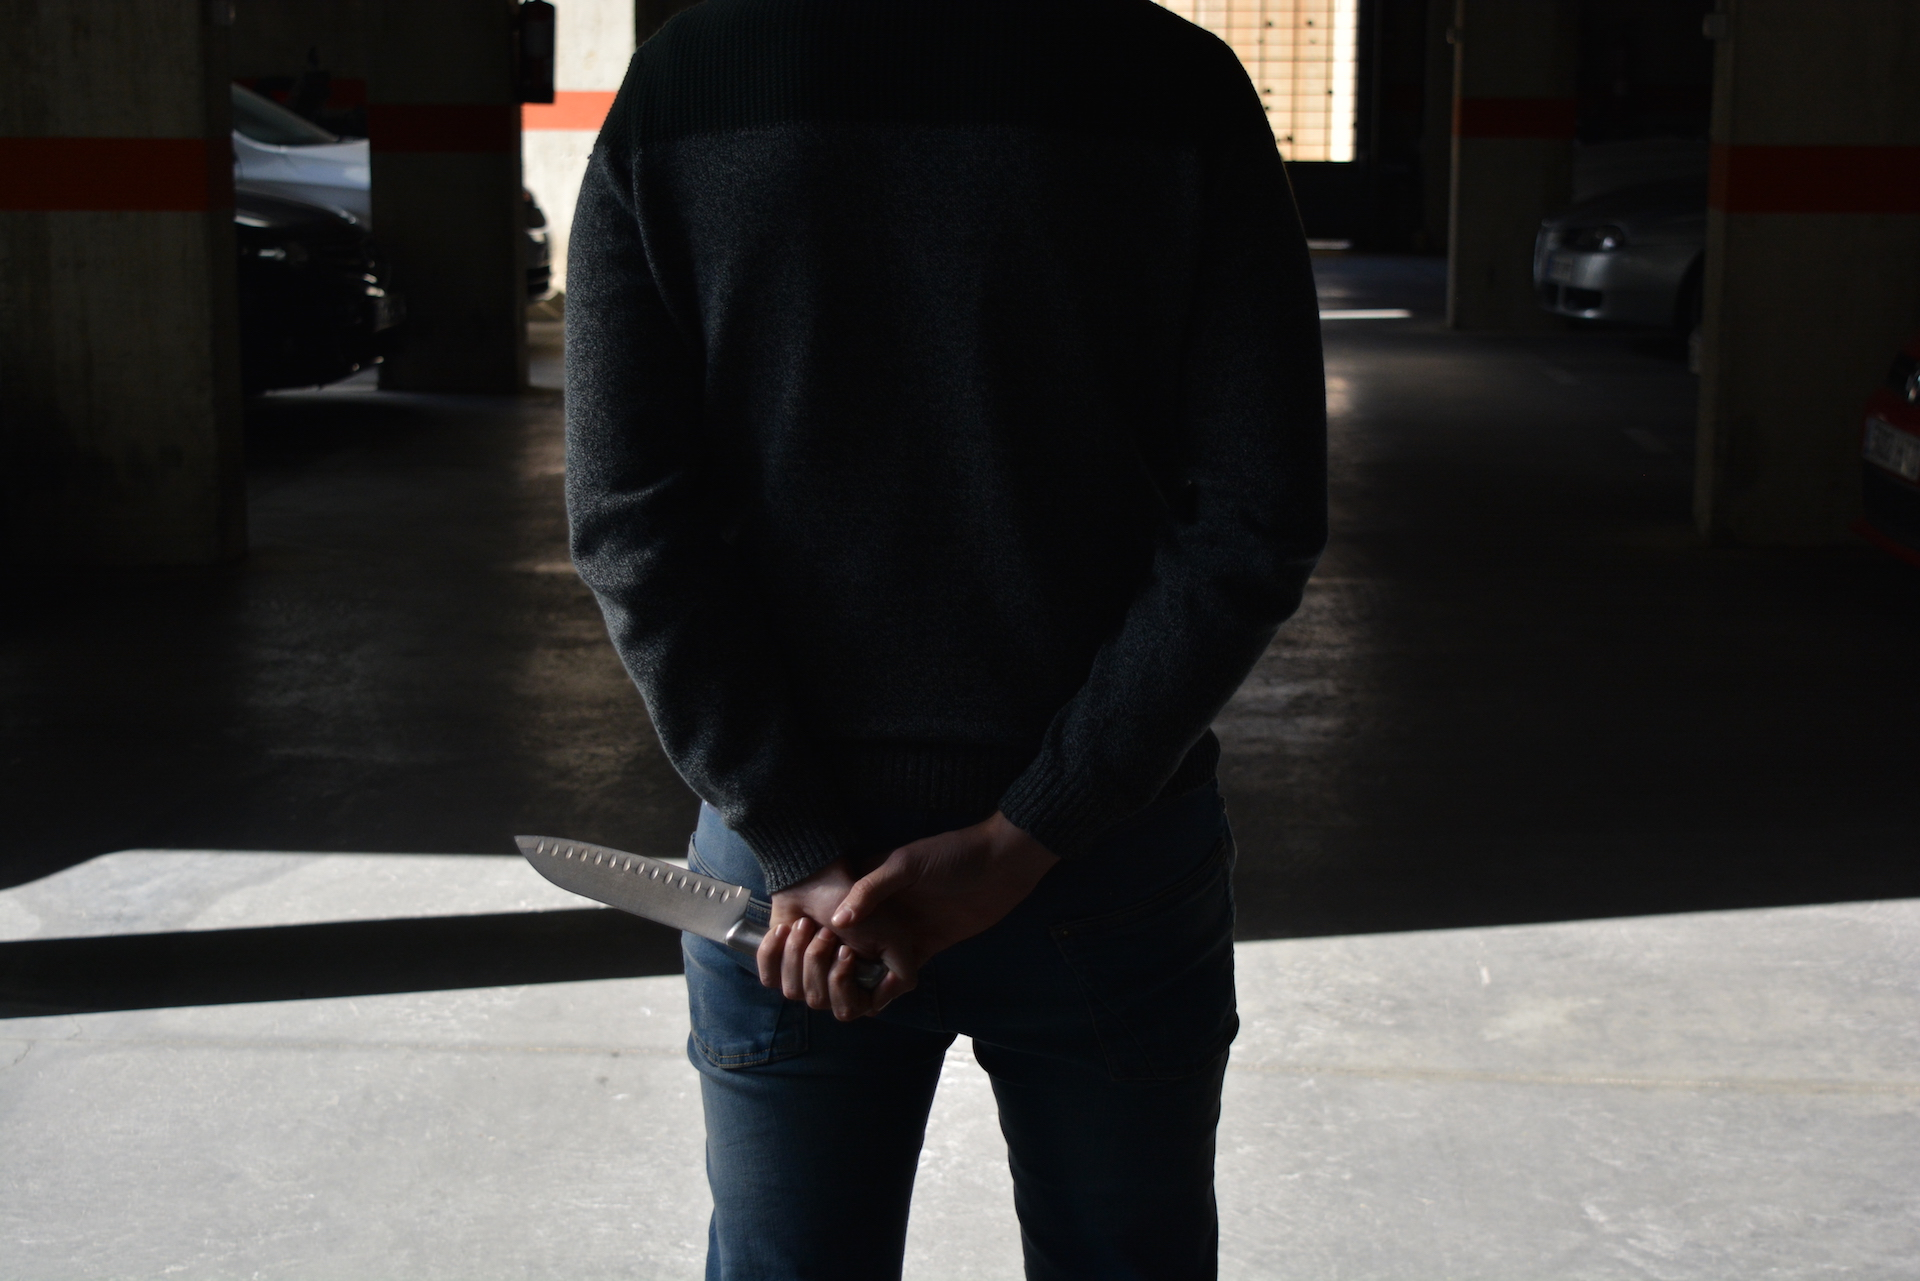knife: (503, 821, 895, 992)
